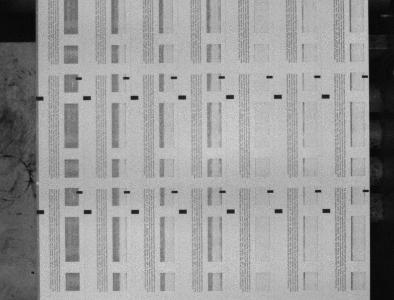qblock: (36, 209, 45, 214), (130, 95, 139, 100), (179, 209, 187, 214), (131, 209, 139, 214), (323, 208, 331, 213), (227, 209, 235, 214), (274, 94, 282, 99), (178, 95, 187, 99), (36, 96, 43, 101), (84, 210, 92, 214), (275, 209, 283, 213), (226, 95, 234, 99), (83, 96, 91, 100), (322, 94, 330, 98)
smallqblock: (76, 190, 83, 194), (219, 75, 225, 79), (267, 190, 274, 193), (362, 75, 369, 78), (171, 76, 178, 79), (363, 189, 370, 192), (123, 76, 130, 79), (76, 77, 82, 80), (124, 190, 130, 193), (172, 190, 178, 193), (315, 75, 321, 78), (267, 75, 273, 78), (220, 190, 226, 193), (315, 190, 322, 192)
